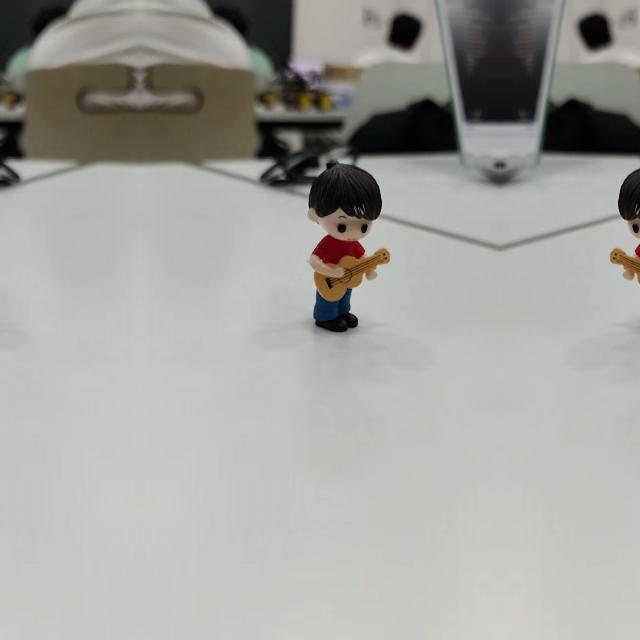man cloth: (310, 233, 368, 267), (632, 233, 640, 267)
man head: (306, 154, 384, 243), (616, 154, 640, 243)
trousers: (312, 284, 352, 328)
